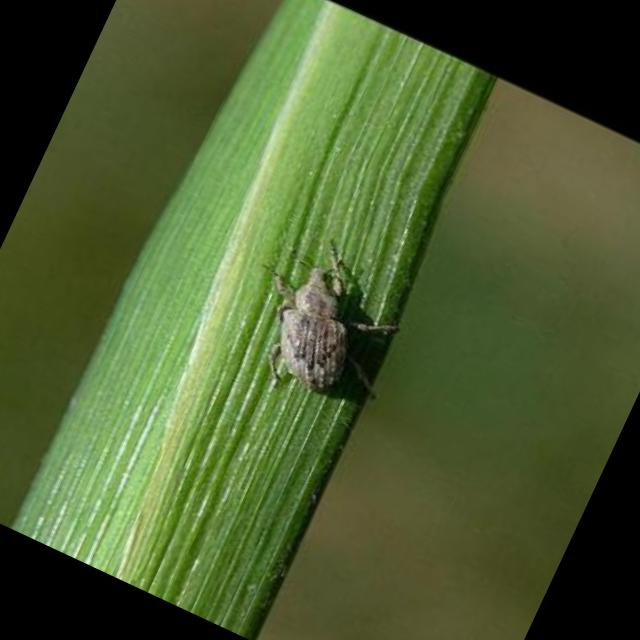rice-bug: (229, 230, 414, 418)
